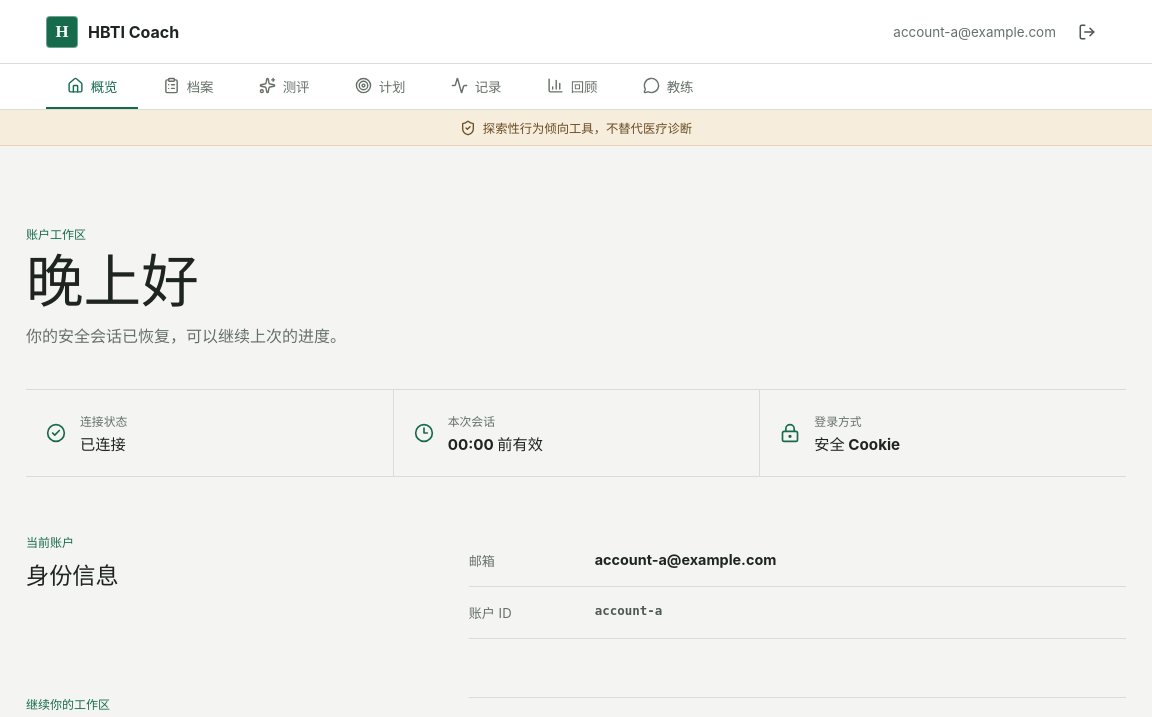
Test: session isolation regressions › returns to login when a protected request cannot refresh the expired session
Step 1. Click the link "档案" → (188,86), box [163,77,214,94]
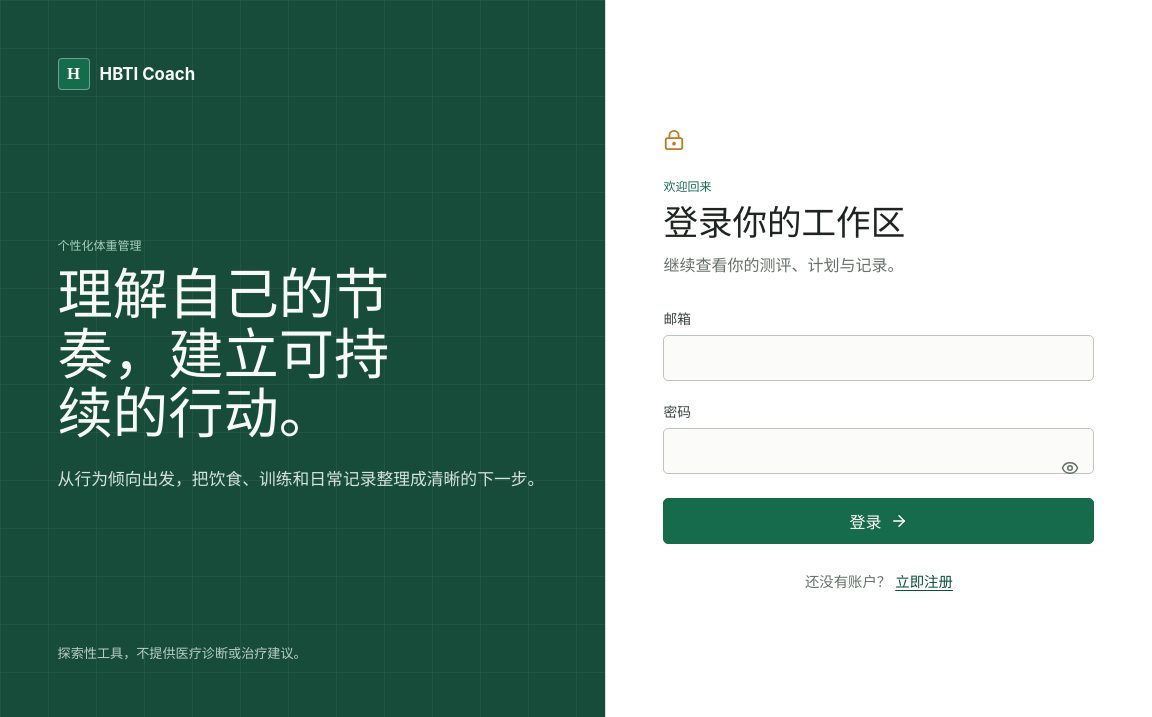
Expected: the heading "登录你的工作区" is shown, [663,202,905,243]
Expected: the text "account-a@example.com" is gone
